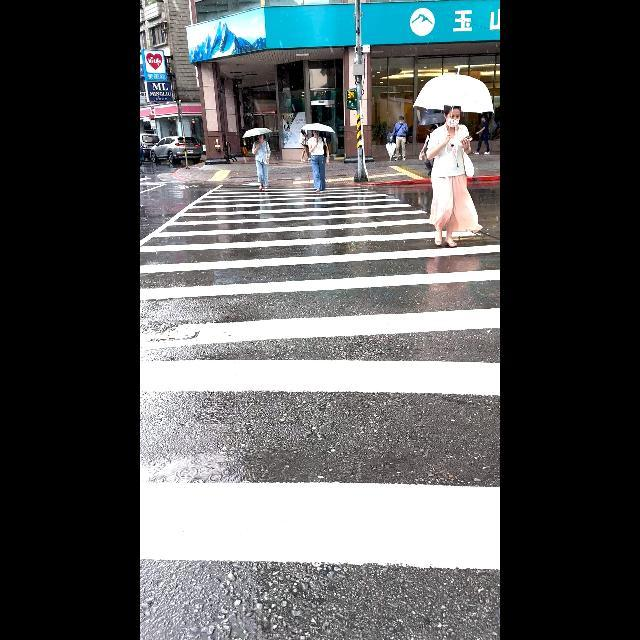sidewalk: (140, 179, 500, 640)
